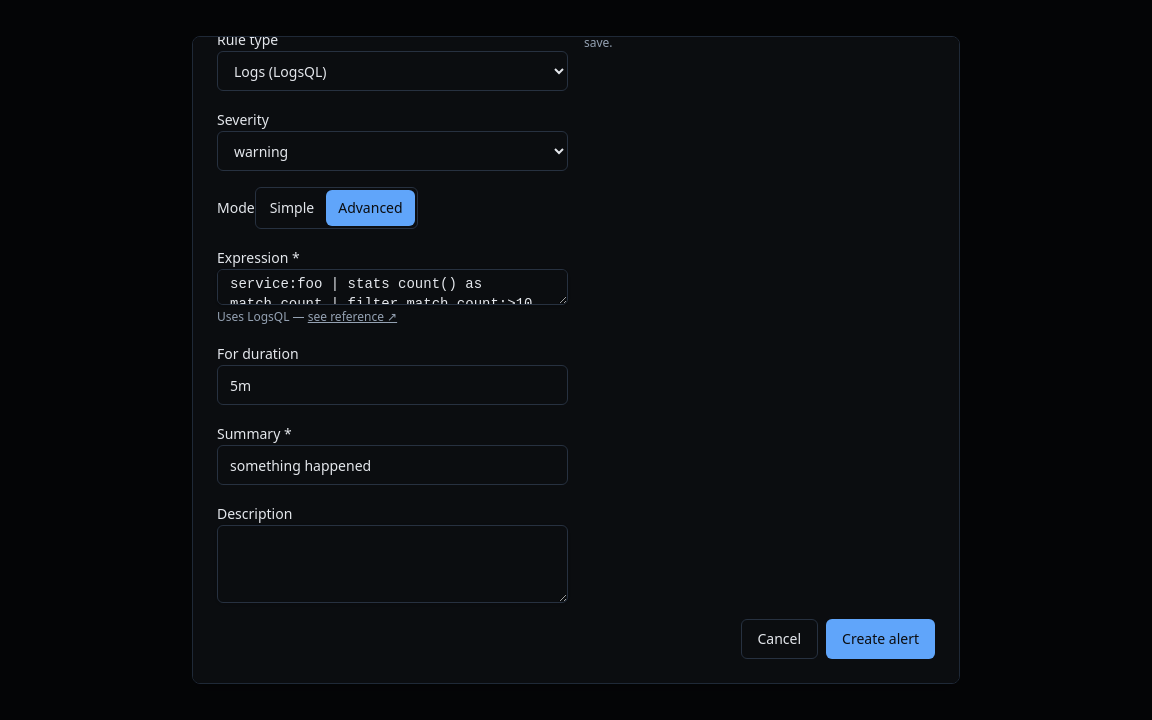
CreateAlertModal › on 409 shows inline name error and keeps modal open
(page scrolled)
Click the button with test id "create-alert-submit": click(881, 639) x1=826 y1=619 x2=935 y2=659
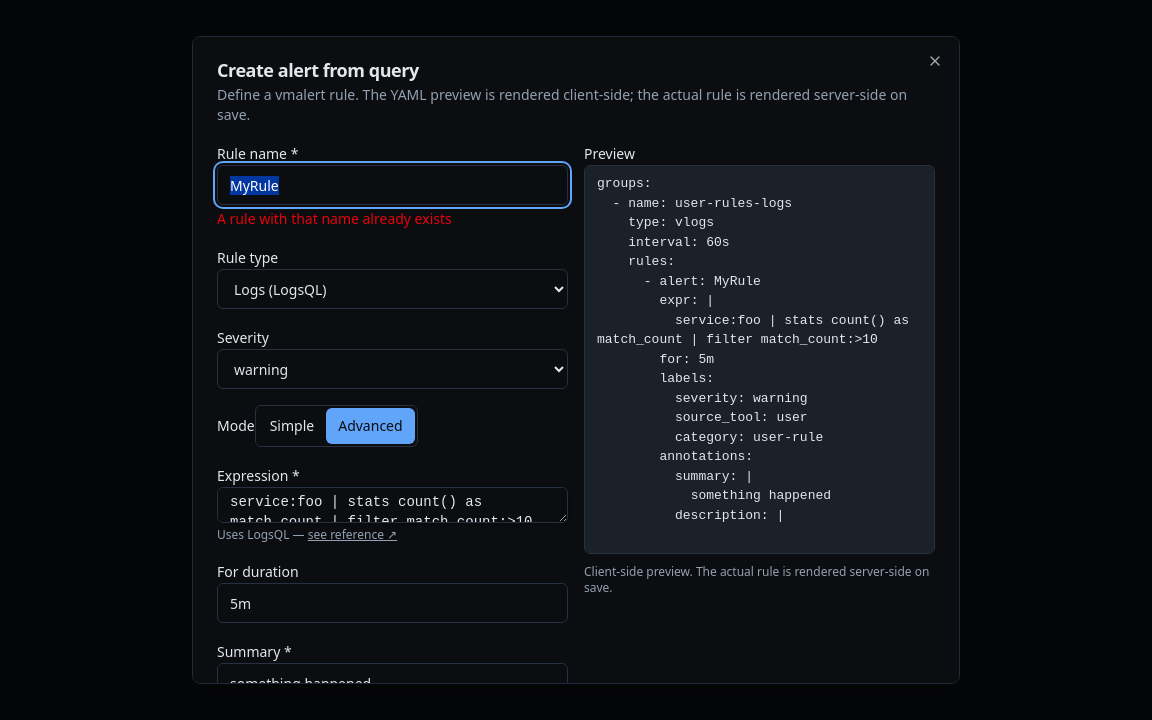
Now the message "A rule with that name already exists" is shown, box x1=217 y1=209 x2=452 y2=228
